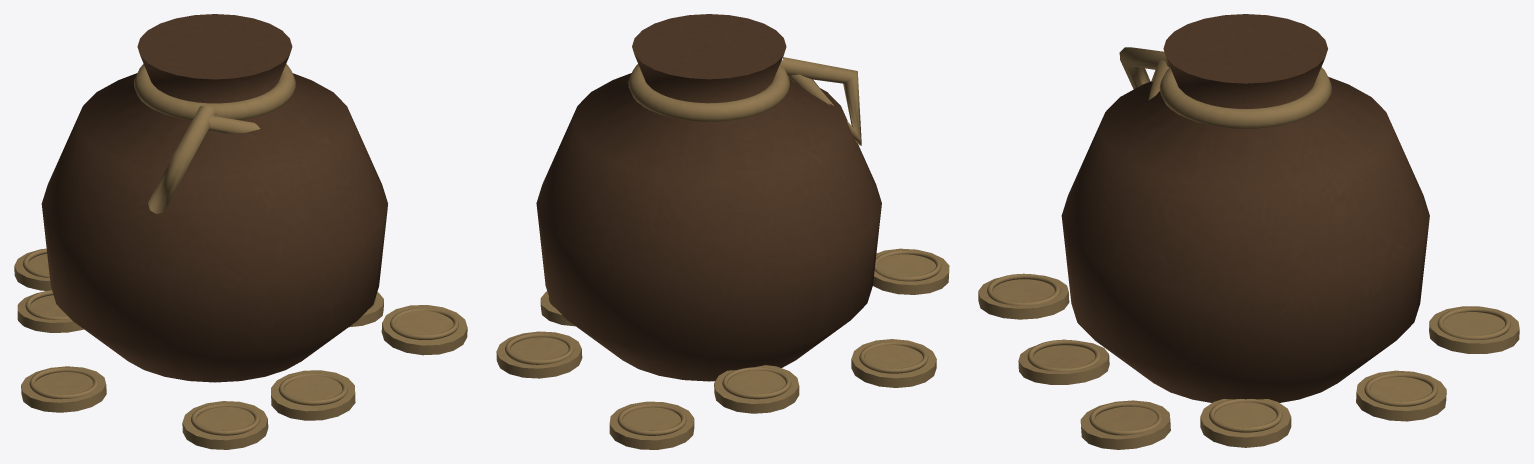
File: loot_prism.glb
The picture shows the model from 3 angles, left to right: view 1: azimuth 30°, elevation 25°; view 2: azimuth 150°, elevation 25°; view 3: azimuth 270°, elevation 25°; orthographic projection. The views are drawn at different scales.
Visible parts, largest first — view 1: loot_prism; view 2: loot_prism; view 3: loot_prism.
Part boxes in pixels (left/top/right/bottom): loot_prism: left=14, top=14, right=467, bottom=449; loot_prism: left=496, top=14, right=949, bottom=449; loot_prism: left=978, top=14, right=1519, bottom=449.
Size of the model in its own units: 0.4999 by 0.3593 by 0.5587.
2 materials, 2 textured.
